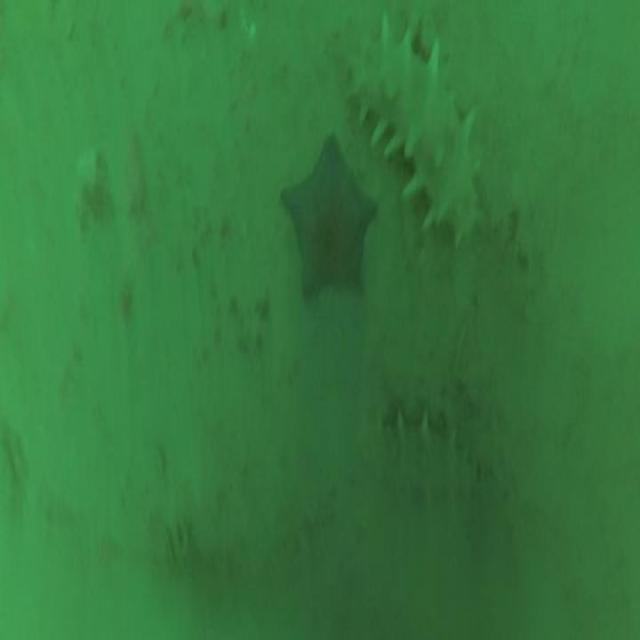holothurian: (342, 11, 480, 243), (366, 417, 480, 512)
starfish: (278, 134, 378, 300)
